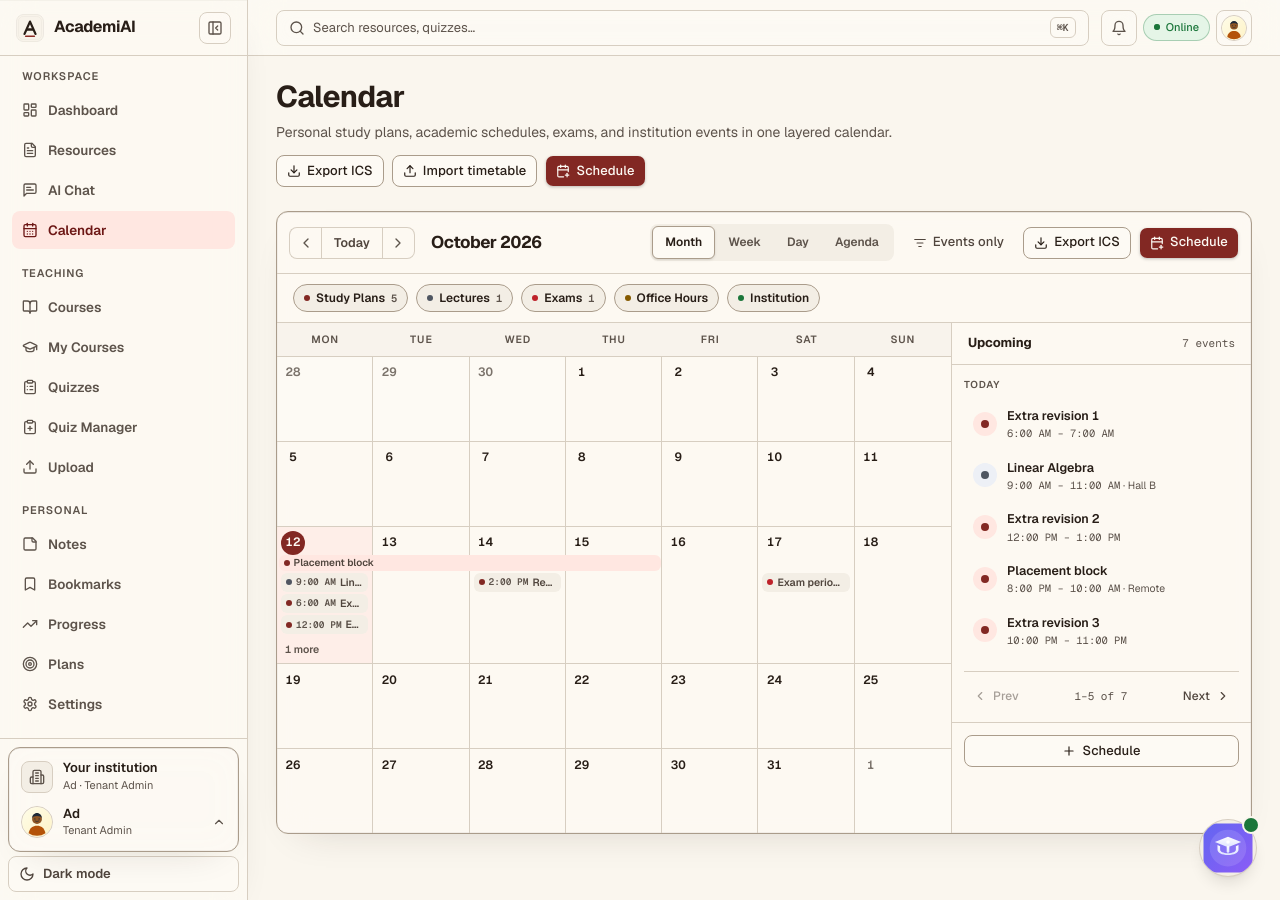
Test: calendar views › opens the import timetable dialog
Expected: the text "Linear Algebra" below "13" is shown, x1=340 y1=575 x2=413 y2=589
Click the button "Import timetable" at x=465, y=171, box x1=392 y1=155 x2=538 y2=187
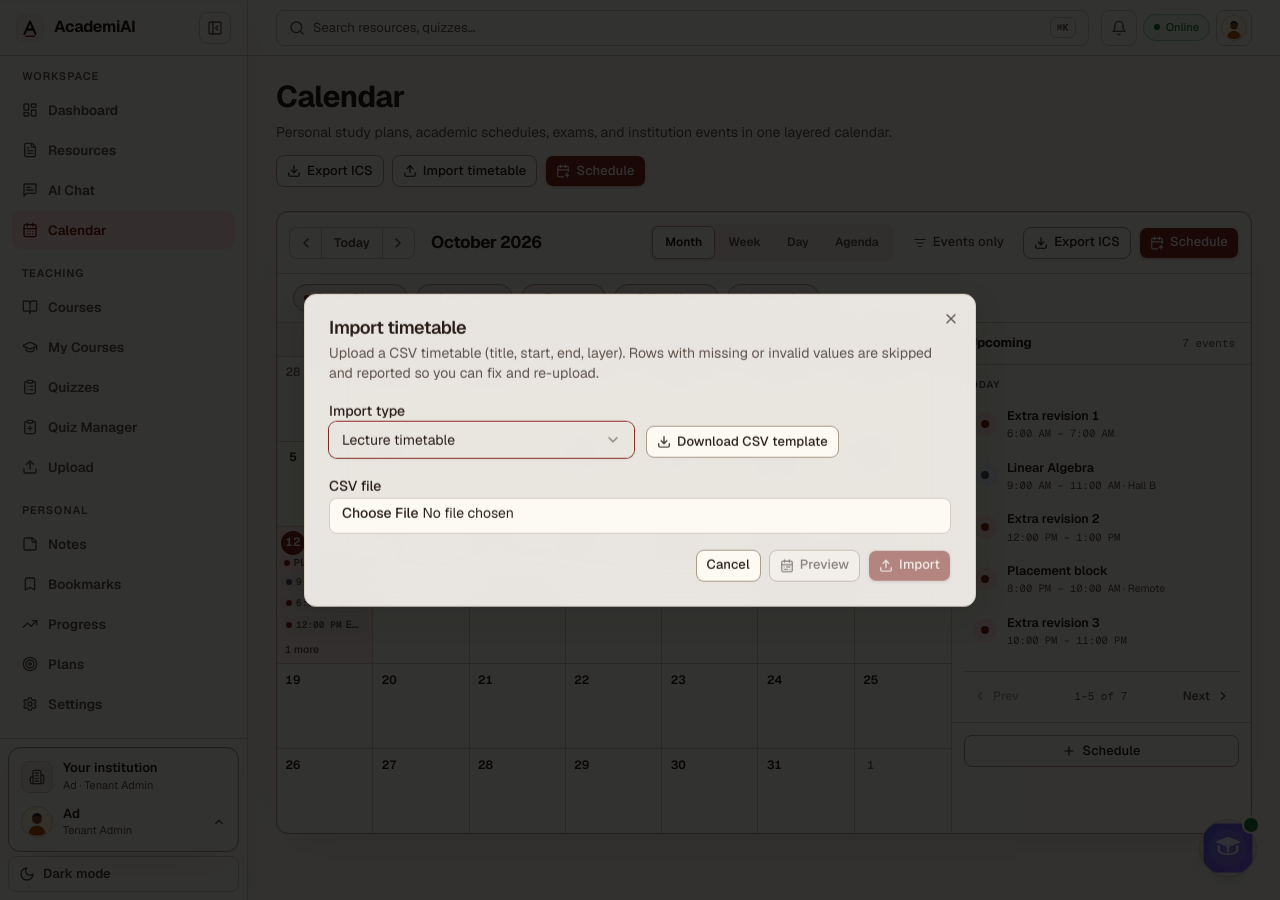
Now the heading "Import timetable" is shown, box x1=329 y1=316 x2=466 y2=339
